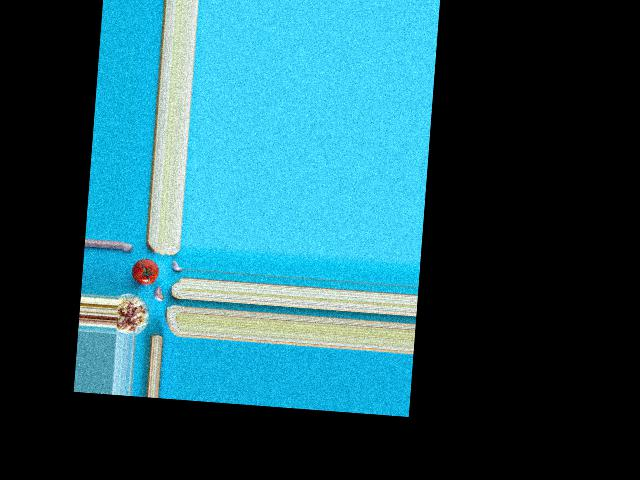tomato: (130, 257, 159, 284)
